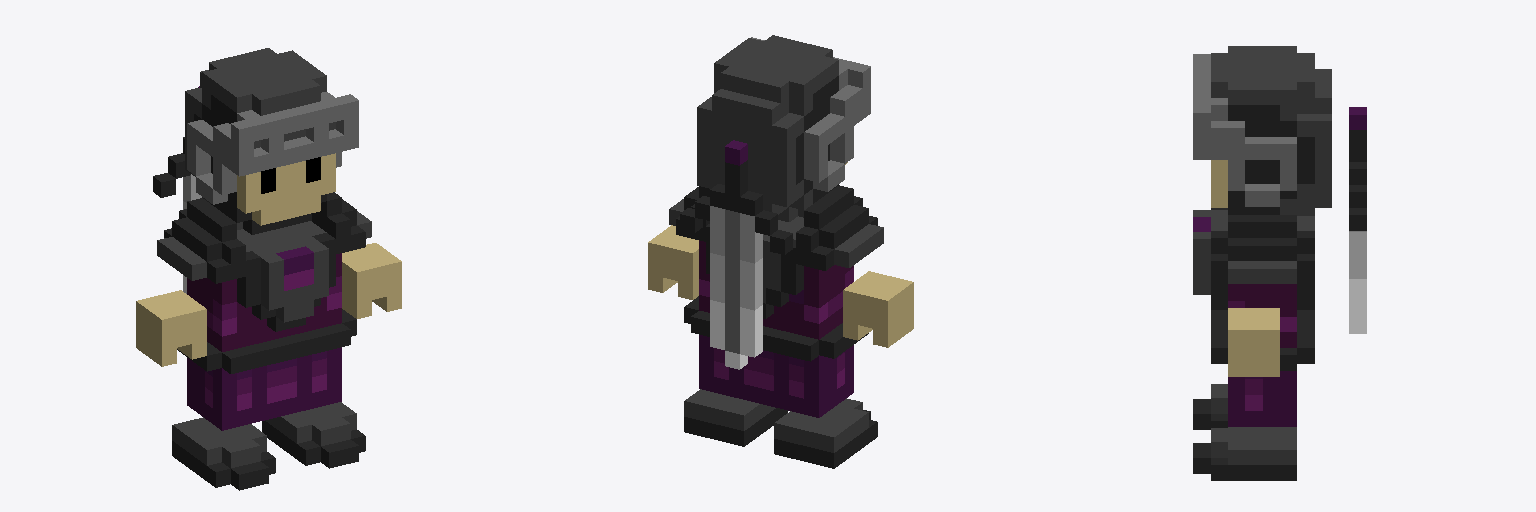
3 views of the same model, side by side, from view 1: azimuth 30°, elevation 25°; view 2: azimuth 150°, elevation 25°; view 3: azimuth 270°, elevation 25° (orthographic).
Visible parts, largest first — view 1: PurpleKnight; view 2: PurpleKnight; view 3: PurpleKnight.
Part boxes in pixels (left/top/right/bottom): PurpleKnight: left=136, top=48, right=401, bottom=490; PurpleKnight: left=648, top=35, right=913, bottom=468; PurpleKnight: left=1193, top=46, right=1366, bottom=480.
Bounding box in the file's own units: 16 × 24 × 10.
1 materials, 1 textured.